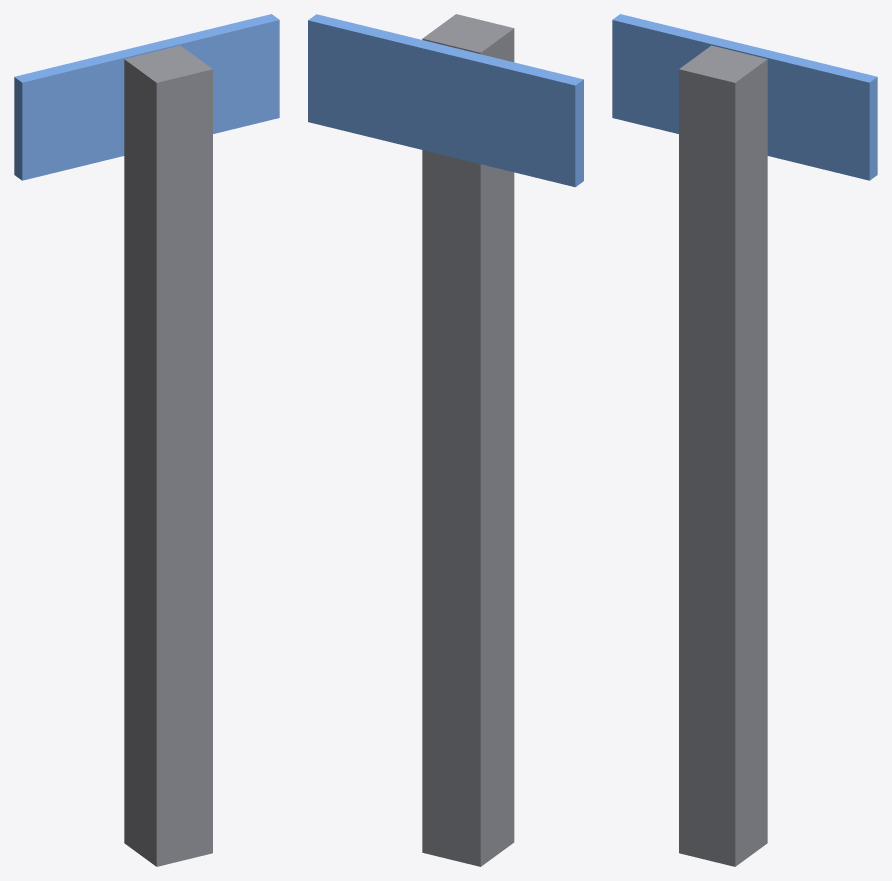
File: street_pole_01_lo2.glb
The picture shows the model from 3 angles, left to right: view 1: azimuth 30°, elevation 25°; view 2: azimuth 150°, elevation 25°; view 3: azimuth 330°, elevation 25°; orthographic projection. The views are drawn at different scales.
Parts seen in each view (by area): view 1: street_pole_01_lo2; view 2: street_pole_01_lo2; view 3: street_pole_01_lo2.
Part boxes in pixels (bbox=[...]): street_pole_01_lo2: bbox=[14, 14, 279, 866]; street_pole_01_lo2: bbox=[308, 14, 583, 866]; street_pole_01_lo2: bbox=[612, 14, 877, 866].
Size of the model in its own units: 0.55 by 1.6 by 0.155.
